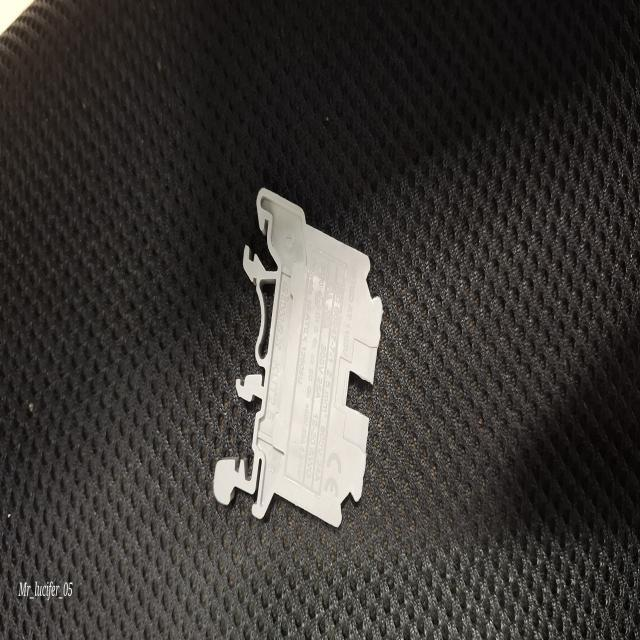Inverted: (212, 188, 383, 534)
